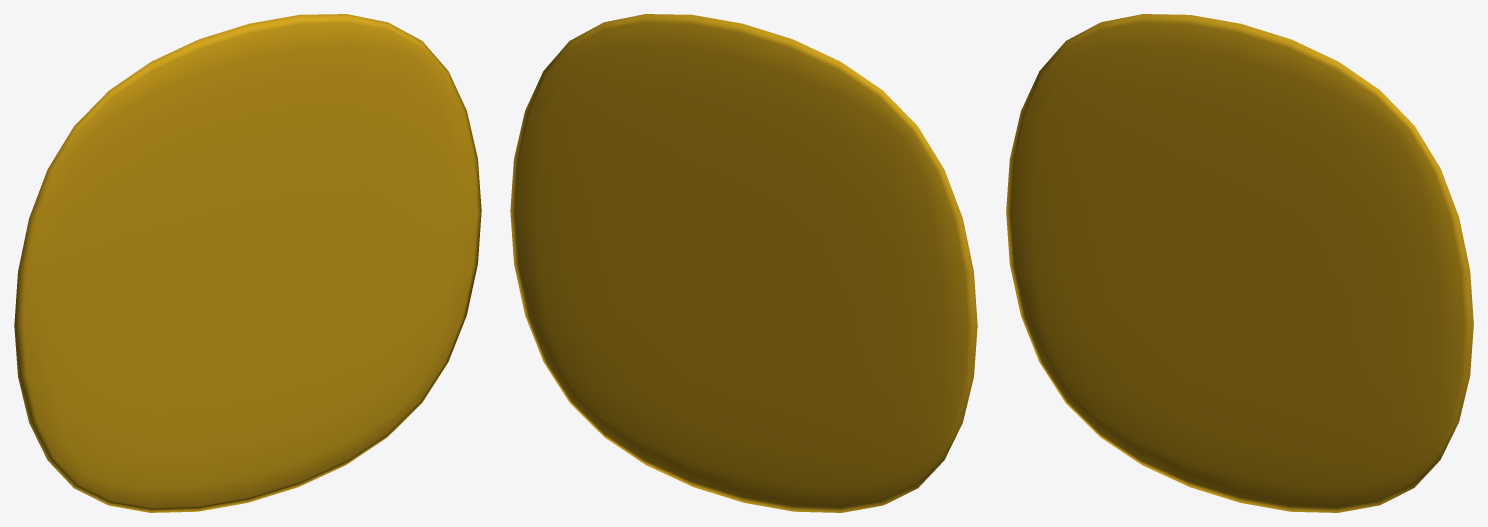
File: plate.dae
The picture shows the model from 3 angles, left to right: view 1: azimuth 30°, elevation 25°; view 2: azimuth 150°, elevation 25°; view 3: azimuth 330°, elevation 25°; orthographic projection.
Parts seen in each view (by area): view 1: Plate; view 2: Plate; view 3: Plate.
Boxes of the visible parts, x1,y1,x2,y2 form: Plate: [14, 14, 481, 512]; Plate: [510, 14, 977, 512]; Plate: [1006, 14, 1473, 512].
Bounding box in the file's own units: 0.3215 × 0.0132 × 0.3148.
